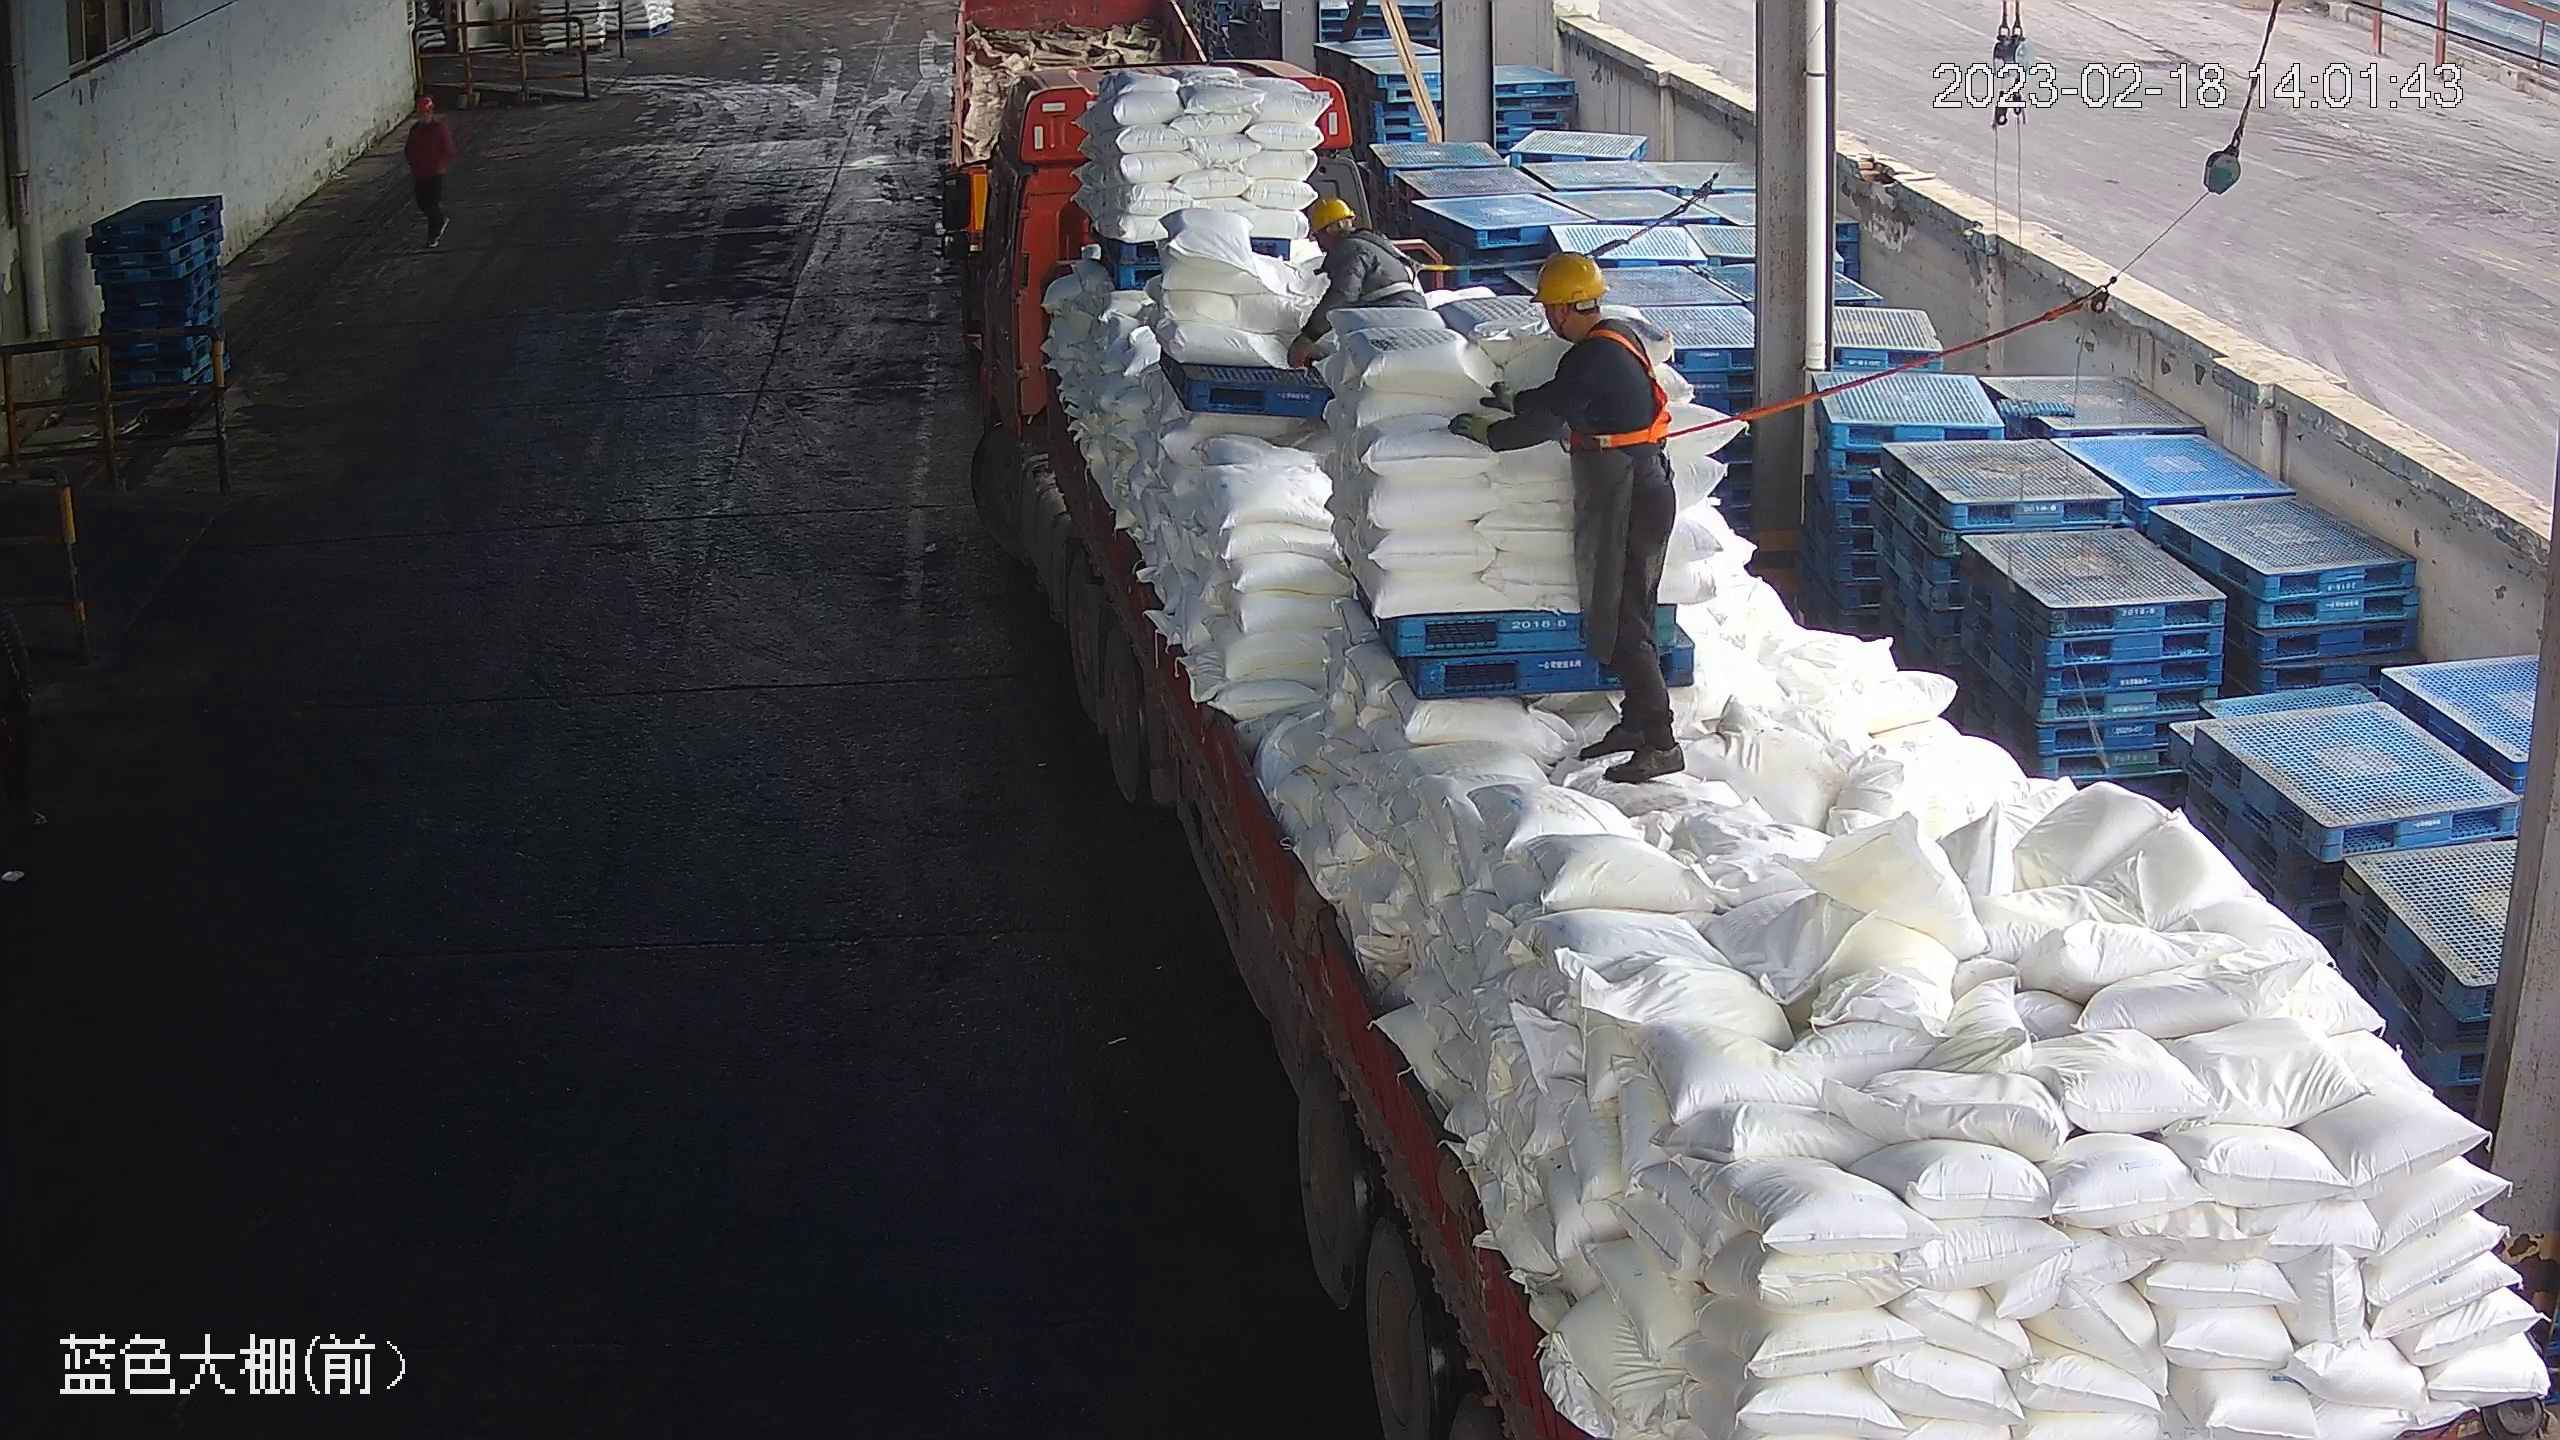belt: (1579, 317, 1693, 452), (1348, 231, 1437, 299)
head: (1523, 252, 1660, 389), (1304, 193, 1410, 272), (404, 95, 451, 143)
helmet: (1528, 250, 1609, 306), (1304, 192, 1358, 234), (415, 94, 439, 114)
people: (1456, 253, 1696, 784), (401, 97, 453, 251)
truck: (940, 58, 2555, 1439)
